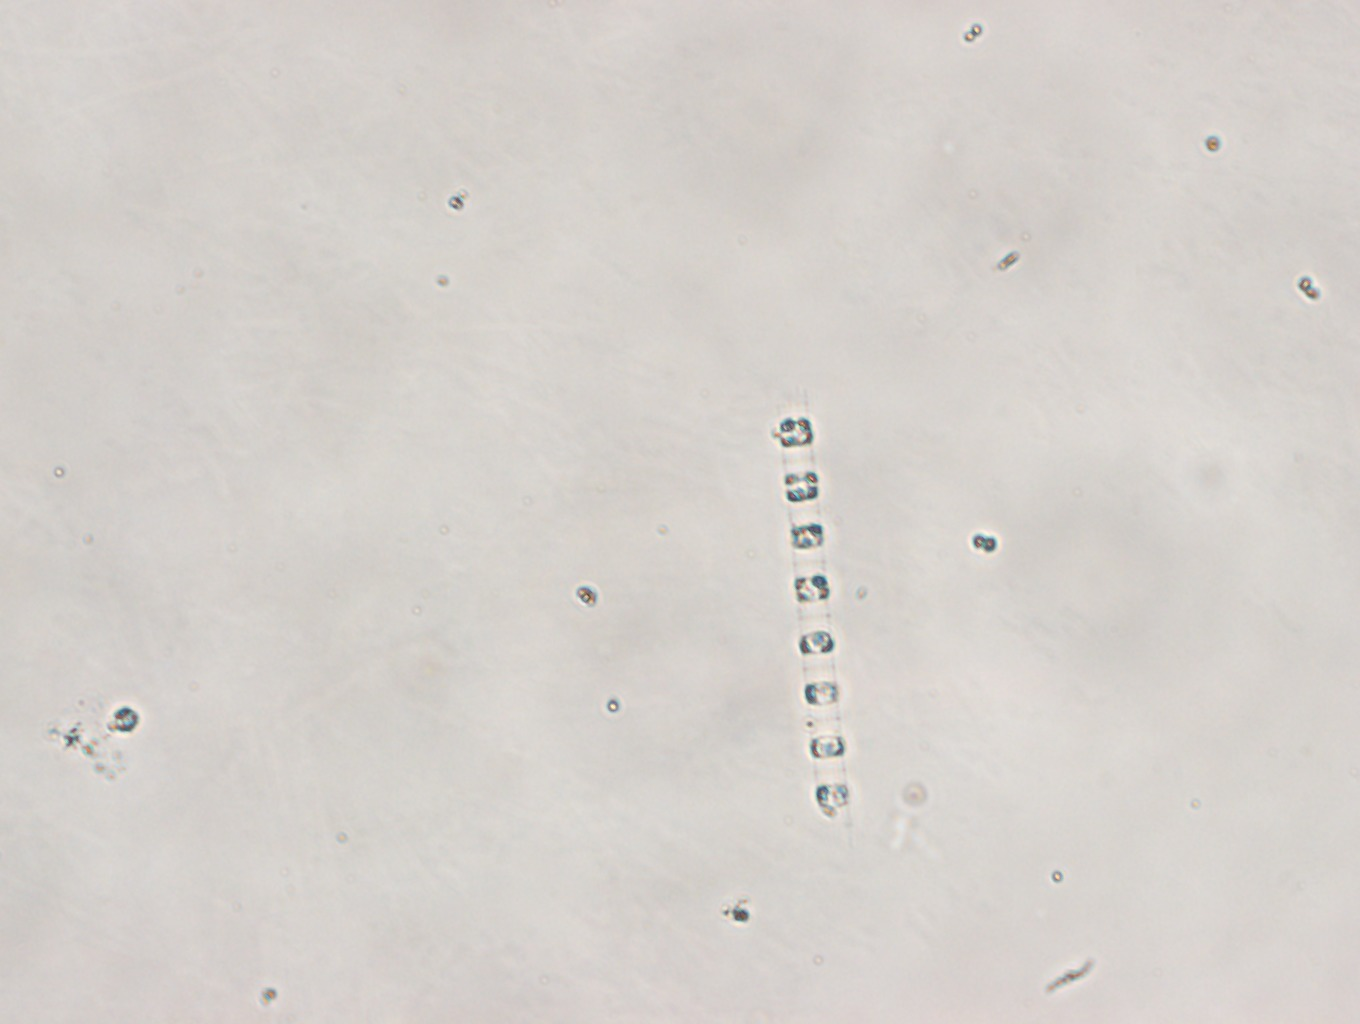skeletonema: (779, 392, 851, 822)
